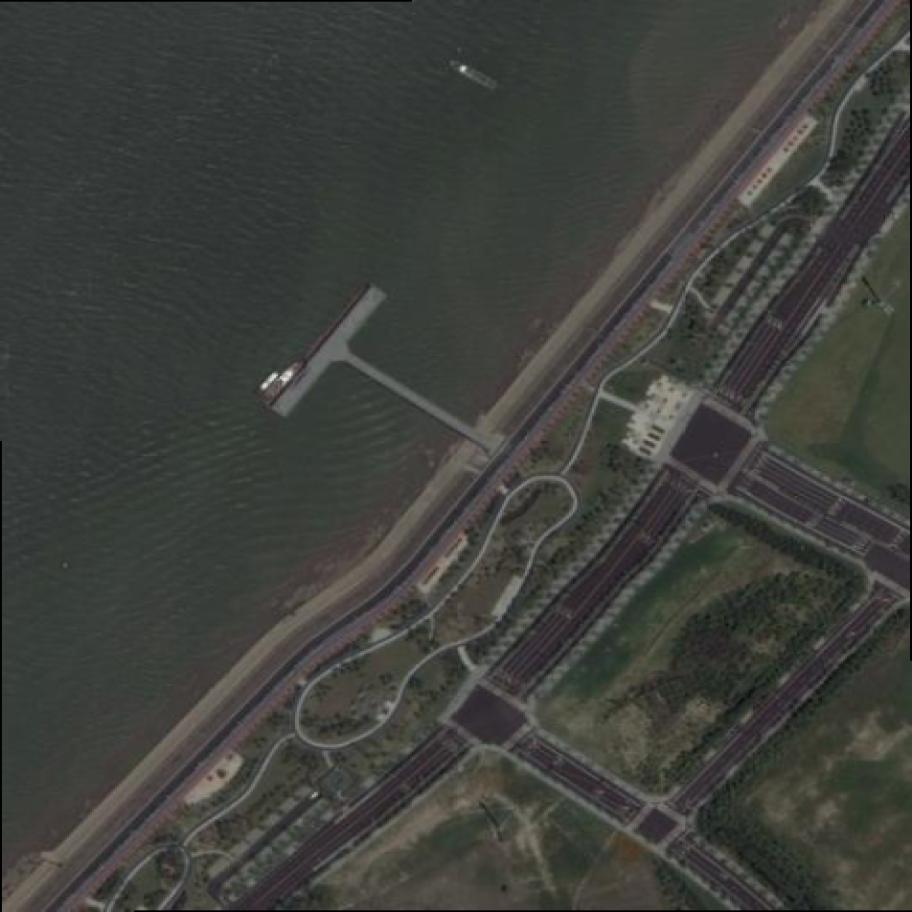ship: (259, 356, 305, 406), (449, 58, 498, 94)
